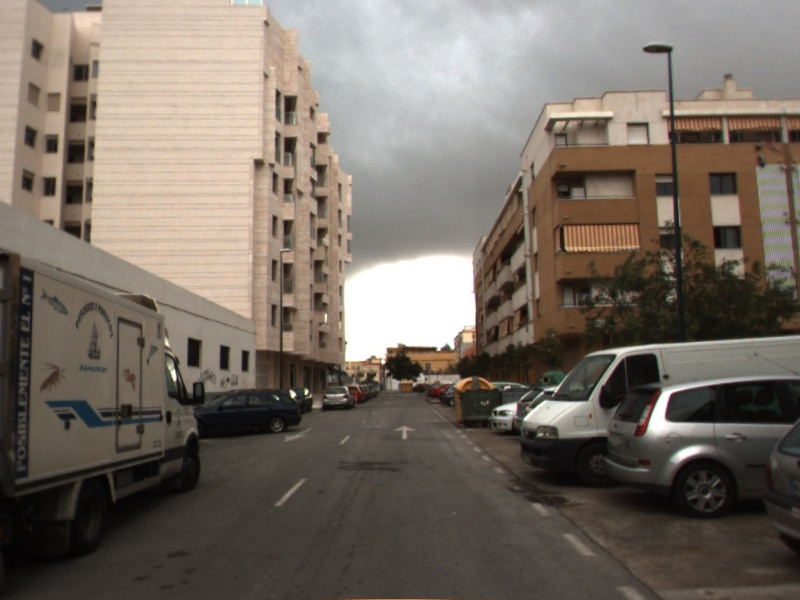STRAIGHT: (392, 423, 420, 442)
